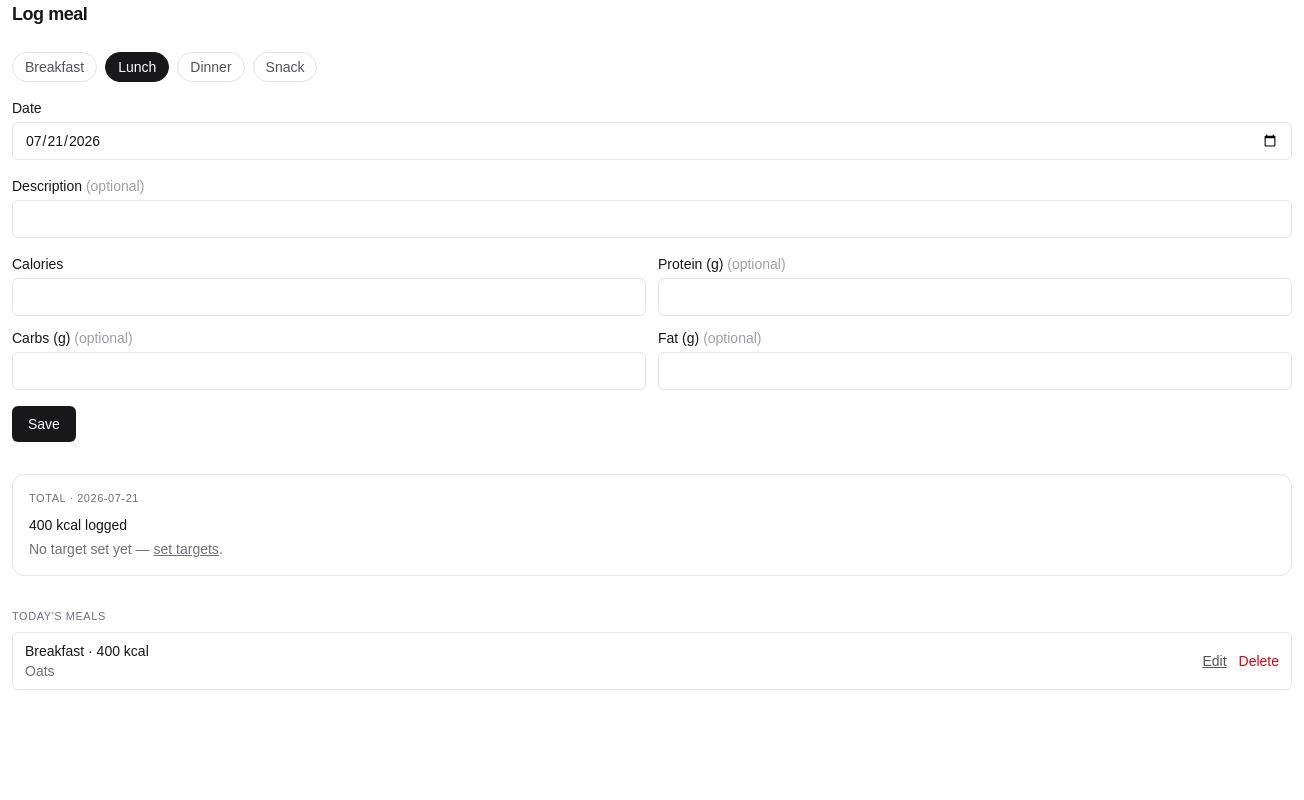
Test: LogMealPanel › AC-M27: a date-edit save snaps the page to the saved date; the moved entry is present with Edit/Delete
Expected: the number of date fields is 1, [12, 122, 1292, 160]
Expected: the text "Oats" is shown, [25, 663, 55, 679]
Click the button "Edit". click: {"x": 1214, "y": 661}
box: [1202, 651, 1226, 671]
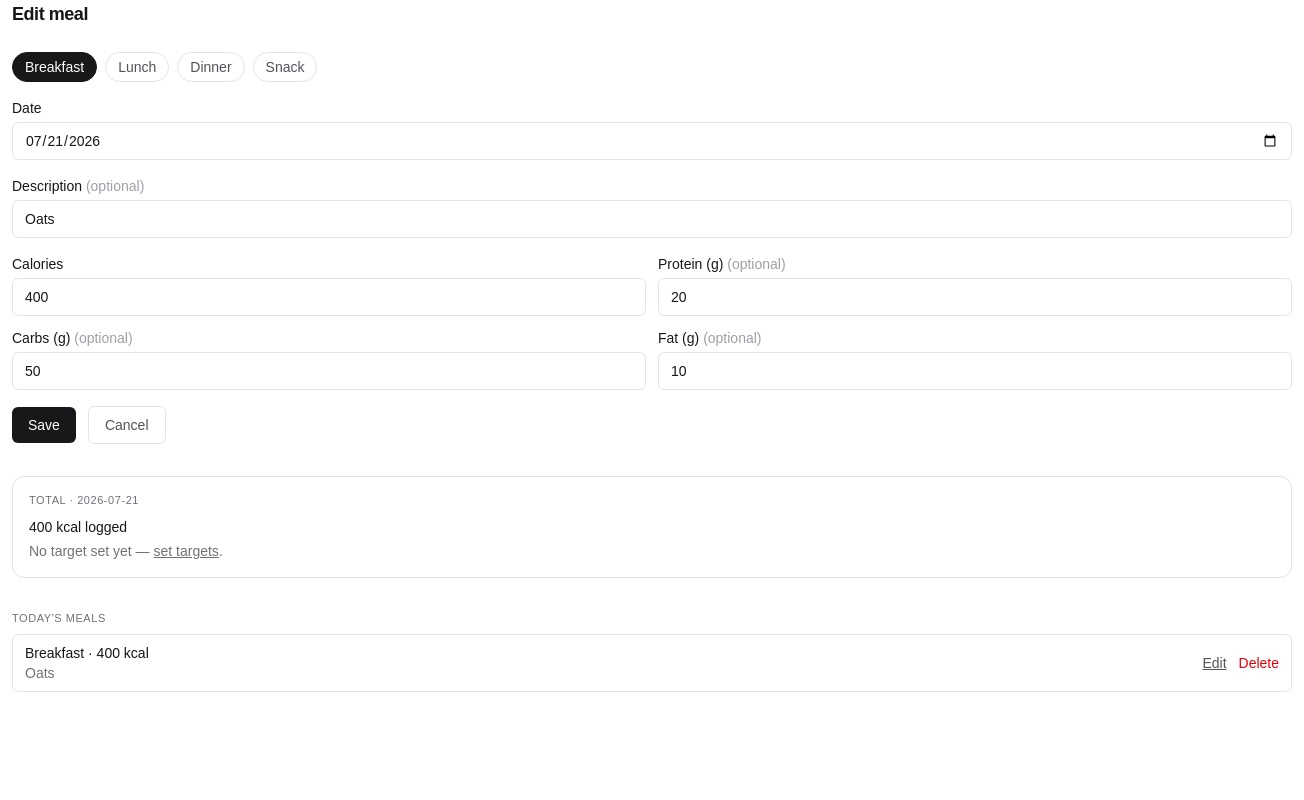
Result: the heading "Edit meal" is shown at [12, 4, 88, 24]
Click the button "Save". click: {"x": 44, "y": 425}
box: [12, 407, 76, 443]
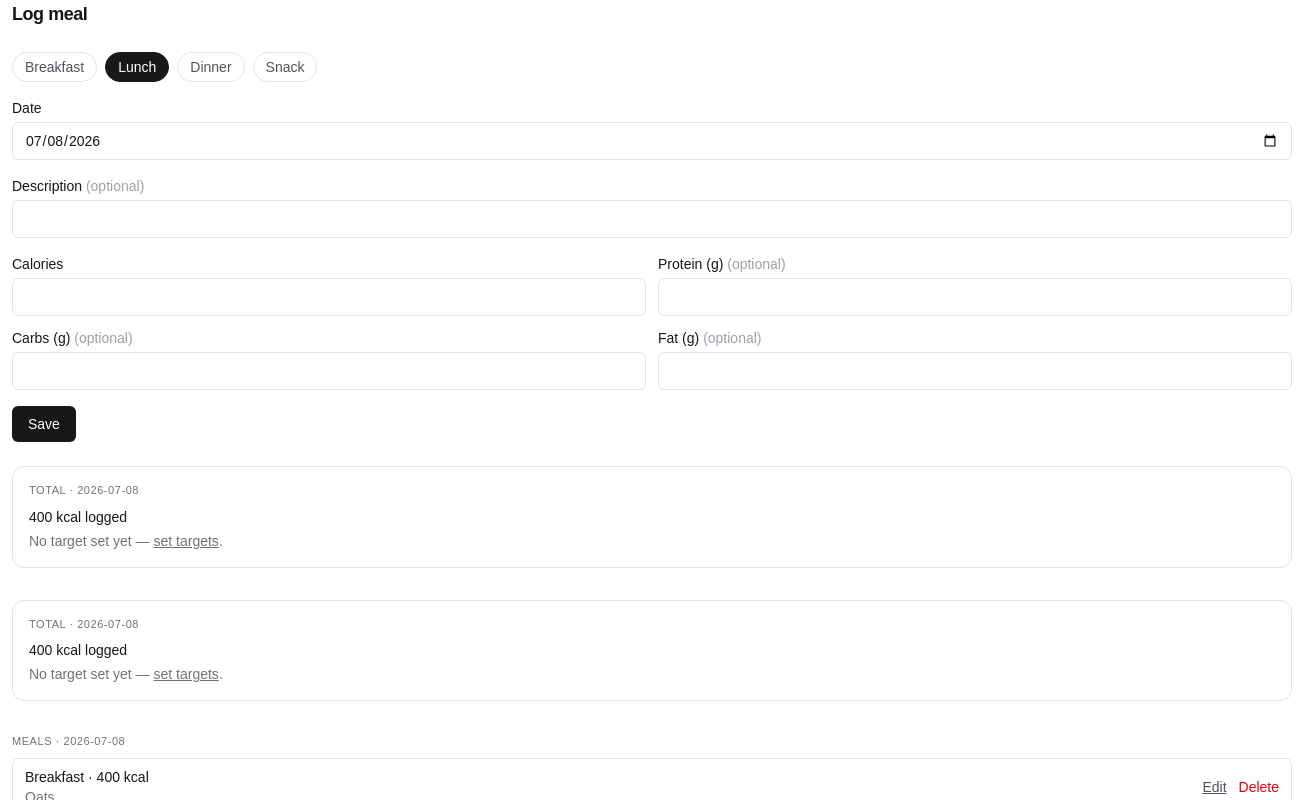
Expected: the button "Edit" is shown, [1202, 777, 1226, 797]
Result: the date field labelled "Date" holds "2026-07-08" at [12, 122, 1292, 160]
